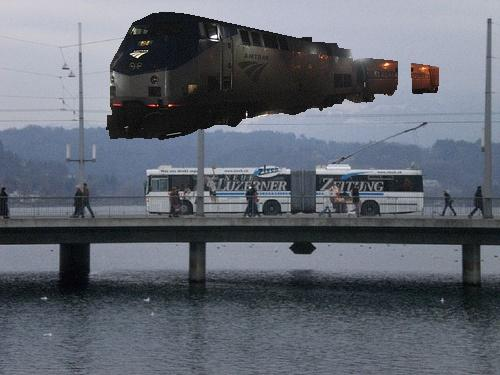tampered: (107, 13, 439, 140)
